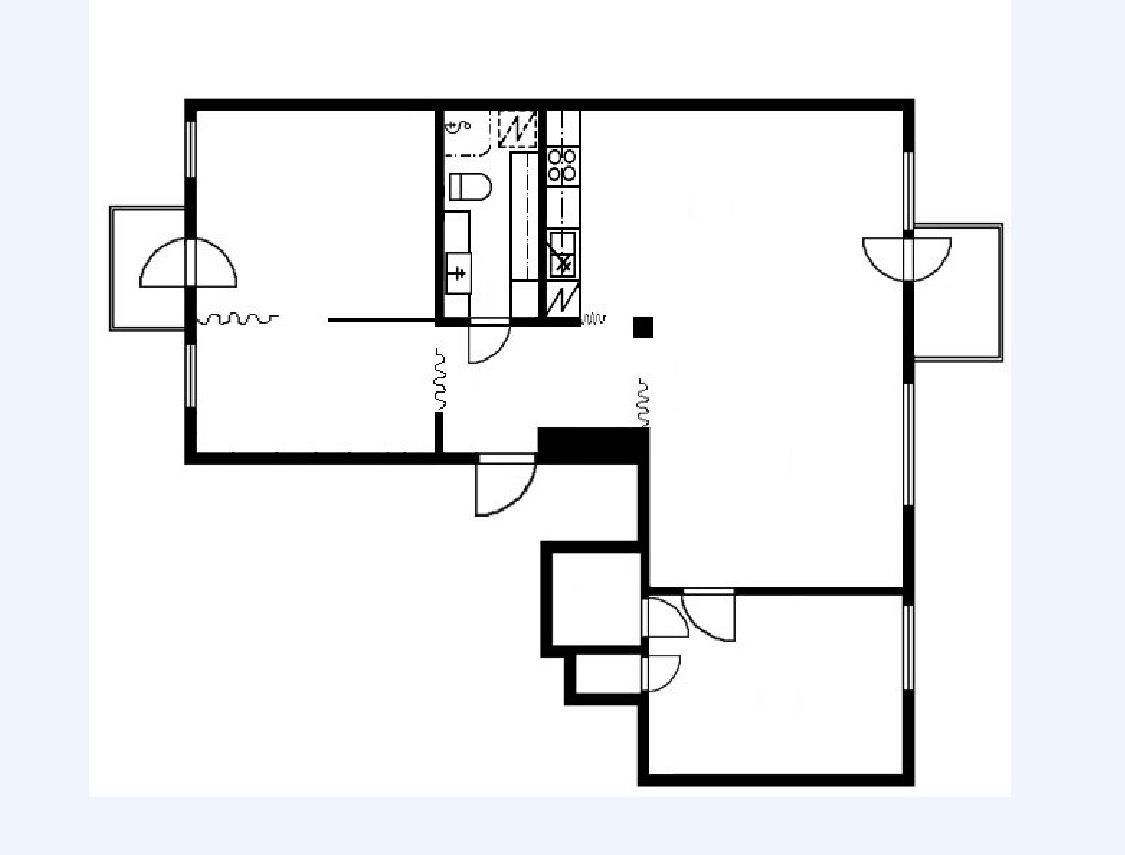bathroom: (440, 106, 541, 316)
door: (470, 450, 538, 519), (679, 587, 743, 647), (182, 232, 240, 291), (137, 234, 196, 291), (859, 232, 916, 287), (901, 234, 956, 283), (640, 593, 696, 641), (466, 313, 510, 368), (637, 653, 685, 692)
perimeter: (181, 99, 917, 788)
window: (899, 376, 920, 511), (898, 599, 922, 697), (898, 145, 919, 231), (180, 335, 202, 417), (178, 111, 200, 183)
